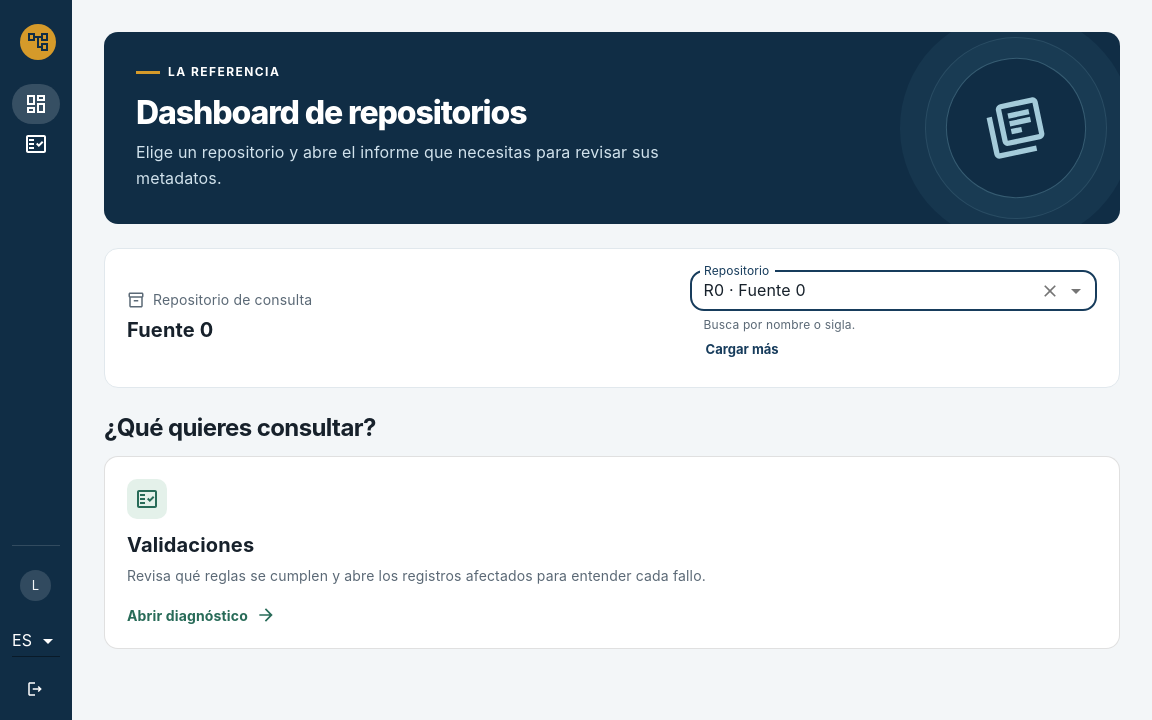
Scenario: searches a large authorized directory without loading intermediate pages
Replace the text in the dropdown labelled "Repositorio" with "R346": (864, 290) [696,276,1032,304]
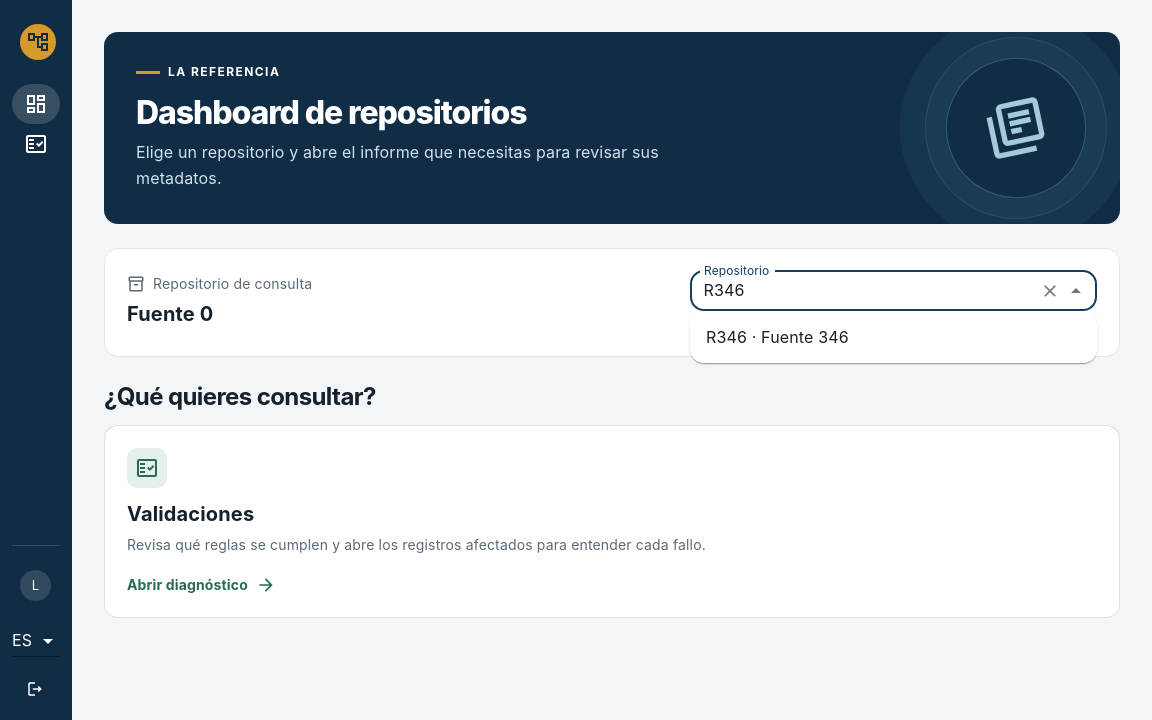
Click the option "R346 · Fuente 346": click(777, 337) [706,327,849,347]
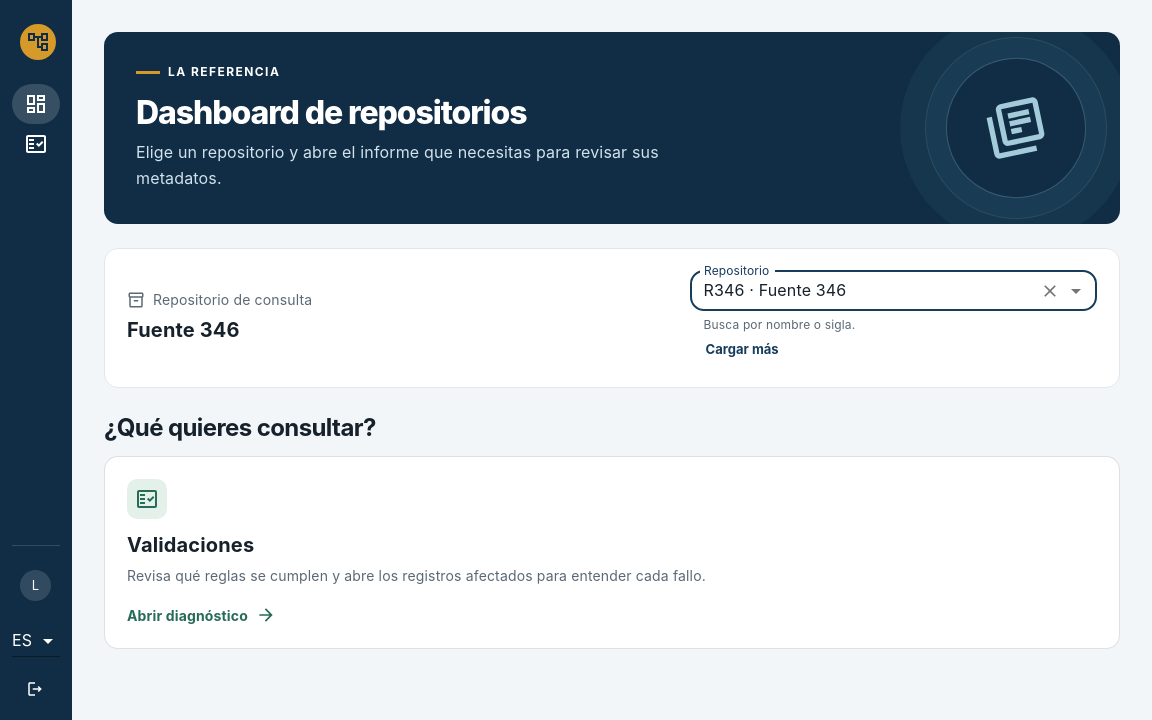
Check: the link "Validaciones" has attribute href="/R346/validation", box [104,456,1120,649]
